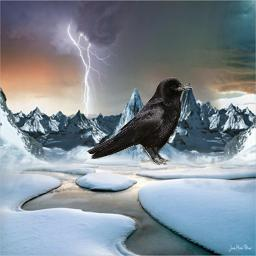Crow: (86, 77, 194, 165)
